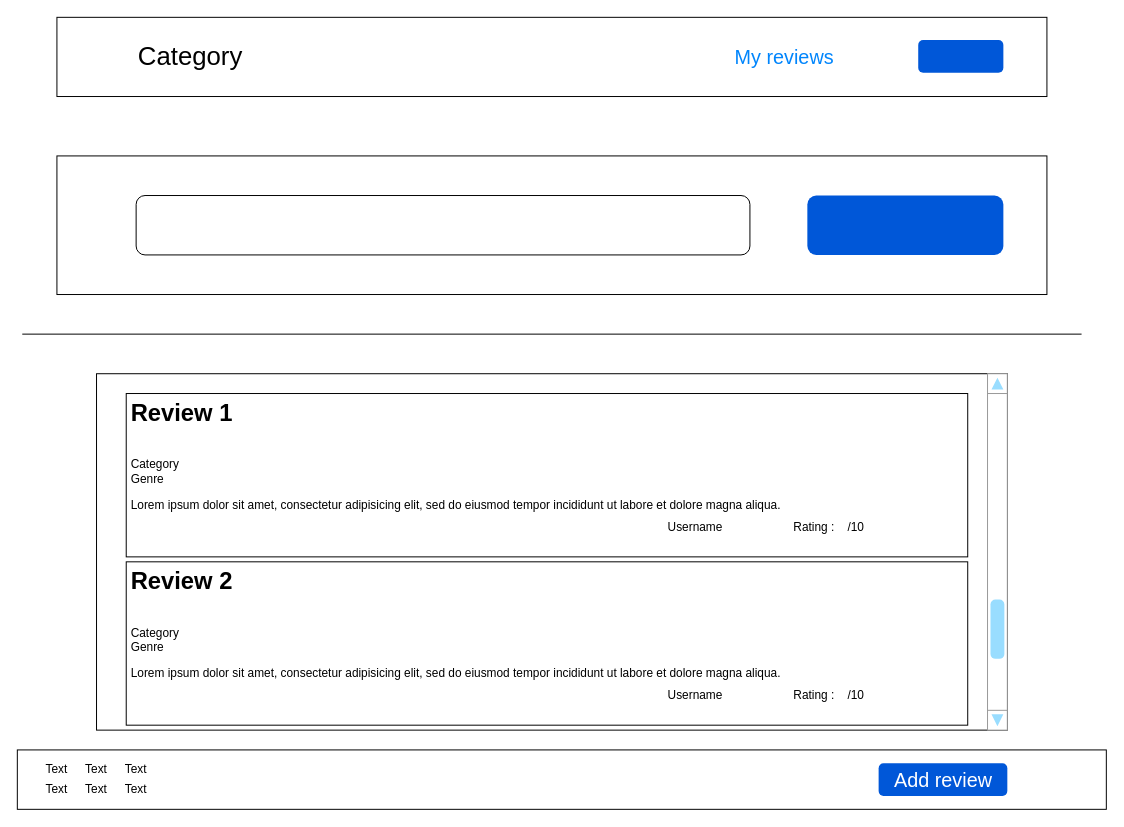
Image size: 1124x827. Some labels were removed from this diagram. Each missing label, with the centre of its shape:
"search" goes at [905,224].
"sign out" goes at [960,56].
